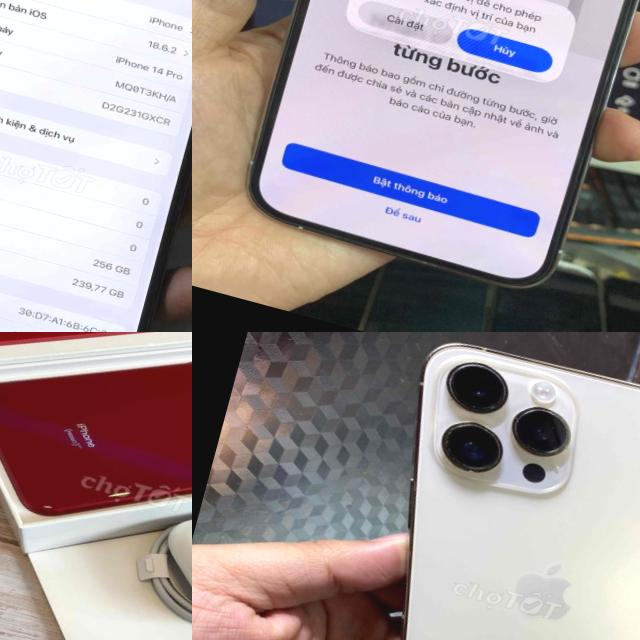gen_12_13: (236, 0, 640, 300)
gen_14: (311, 332, 640, 640), (0, 0, 192, 332)
gen_7_8: (0, 362, 192, 515)
